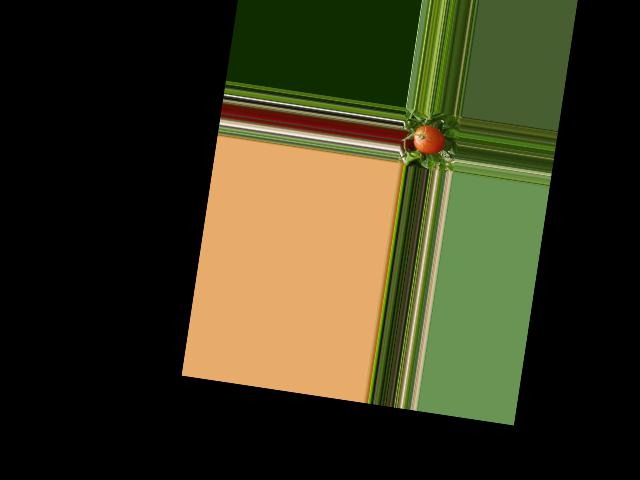tomato: (411, 123, 446, 155)
